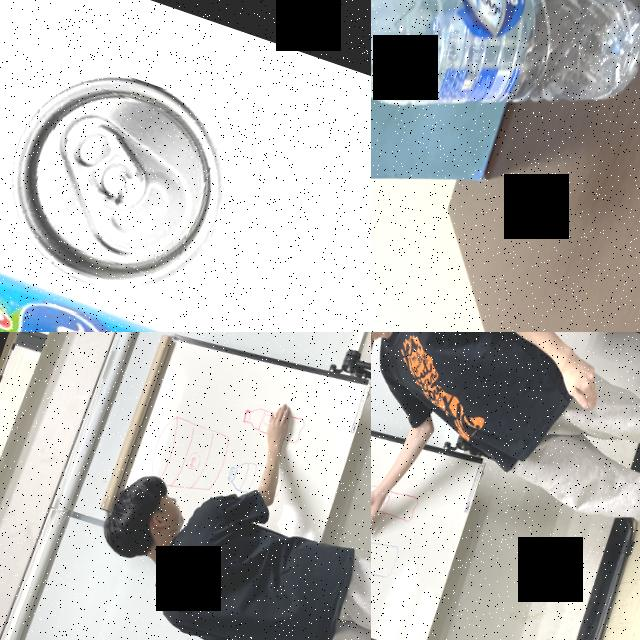bottle: (371, 0, 640, 185)
can: (0, 234, 297, 332)
